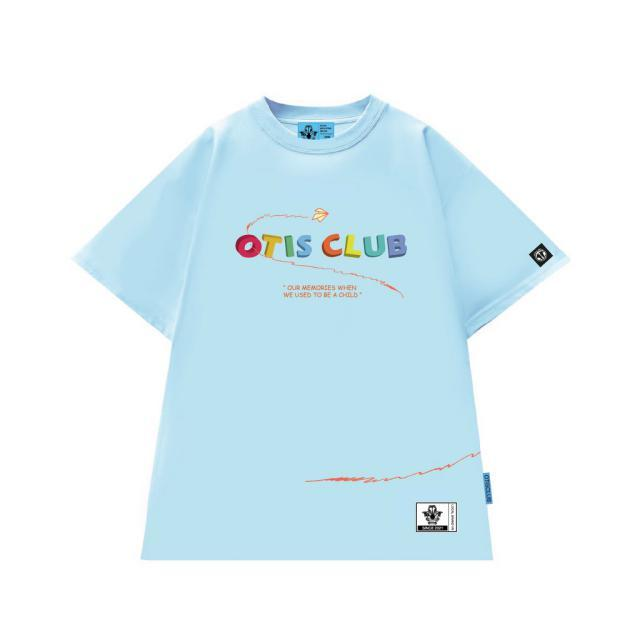Shirt: (70, 95, 570, 564)
